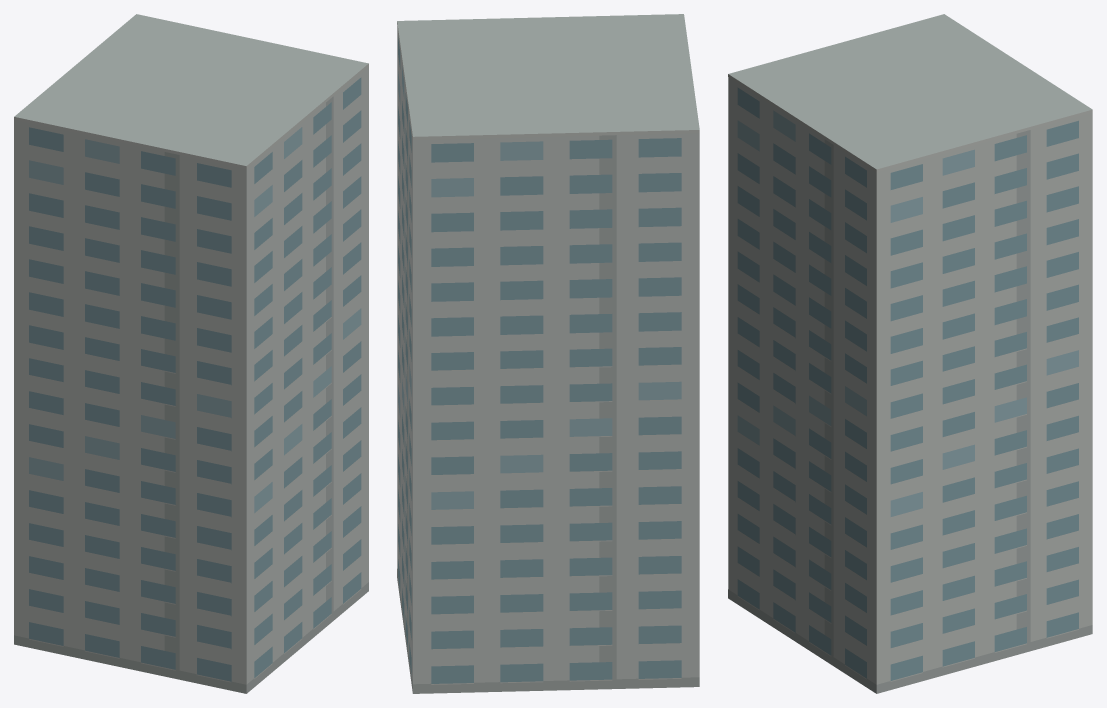
File: residential-b2a3e667-d9f4-4a38-b537-58c1dc5b2113.glb
3 renders of one model, left to right at view 1: azimuth 30°, elevation 25°; view 2: azimuth 150°, elevation 25°; view 3: azimuth 270°, elevation 25°, orthographic. The views are drawn at different scales.
Visible parts, largest first — view 1: residential-b2a3e667-d9f4-4a38-b537-58c1dc5b2113.tmp; view 2: residential-b2a3e667-d9f4-4a38-b537-58c1dc5b2113.tmp; view 3: residential-b2a3e667-d9f4-4a38-b537-58c1dc5b2113.tmp.
Boxes of the visible parts, box(x1,y1,x2,y2) form: residential-b2a3e667-d9f4-4a38-b537-58c1dc5b2113.tmp: box(14, 14, 368, 693); residential-b2a3e667-d9f4-4a38-b537-58c1dc5b2113.tmp: box(397, 14, 699, 693); residential-b2a3e667-d9f4-4a38-b537-58c1dc5b2113.tmp: box(728, 14, 1092, 693).
Bounding box in the file's own units: 26.72 × 42 × 26.47.
